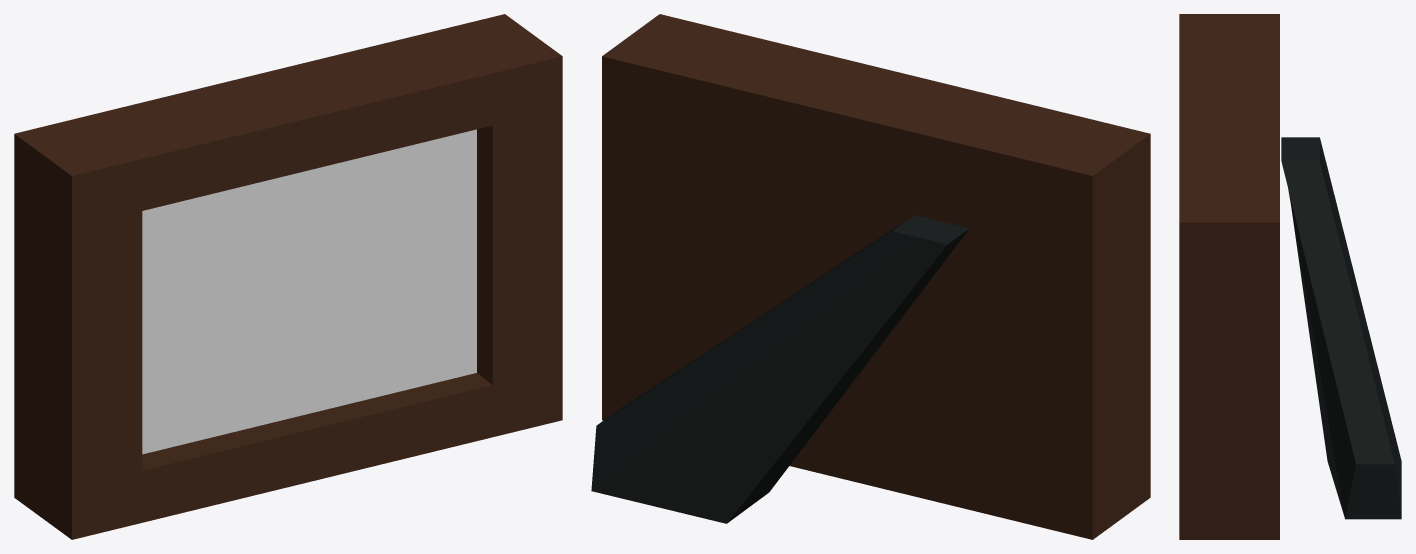
Rendered from picframe_noPic.fbx.
The picture shows the model from 3 angles, left to right: view 1: azimuth 30°, elevation 25°; view 2: azimuth 150°, elevation 25°; view 3: azimuth 270°, elevation 25°; orthographic projection. The views are drawn at different scales.
Visible parts, largest first — view 1: Cube, Cube.002; view 2: Cube, Cube.001; view 3: Cube, Cube.001.
Boxes of the visible parts, left/top/right/bottom form: Cube: left=14, top=14, right=562, bottom=539; Cube.002: left=142, top=129, right=476, bottom=454; Cube: left=602, top=14, right=1150, bottom=539; Cube.001: left=591, top=215, right=969, bottom=523; Cube: left=1179, top=14, right=1279, bottom=539; Cube.001: left=1281, top=137, right=1401, bottom=519.
Bounding box in the file's own units: 512 × 368 × 231.
